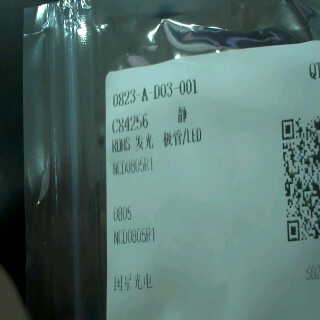LED: (136, 126, 208, 148)
